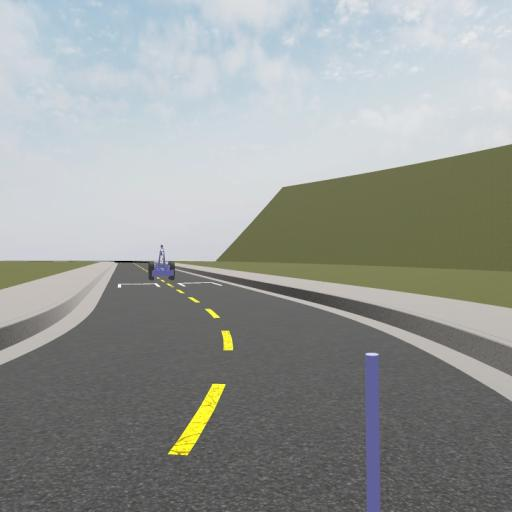ERP-42: (148, 244, 176, 282)
